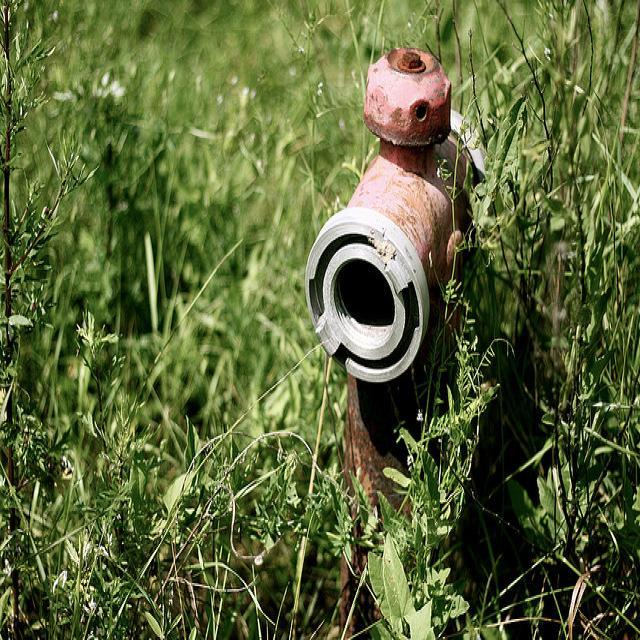fire_hydrant: (304, 44, 490, 638)
